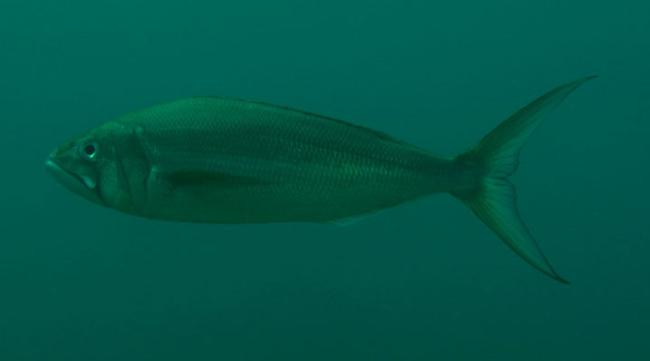fish: (44, 76, 572, 290)
